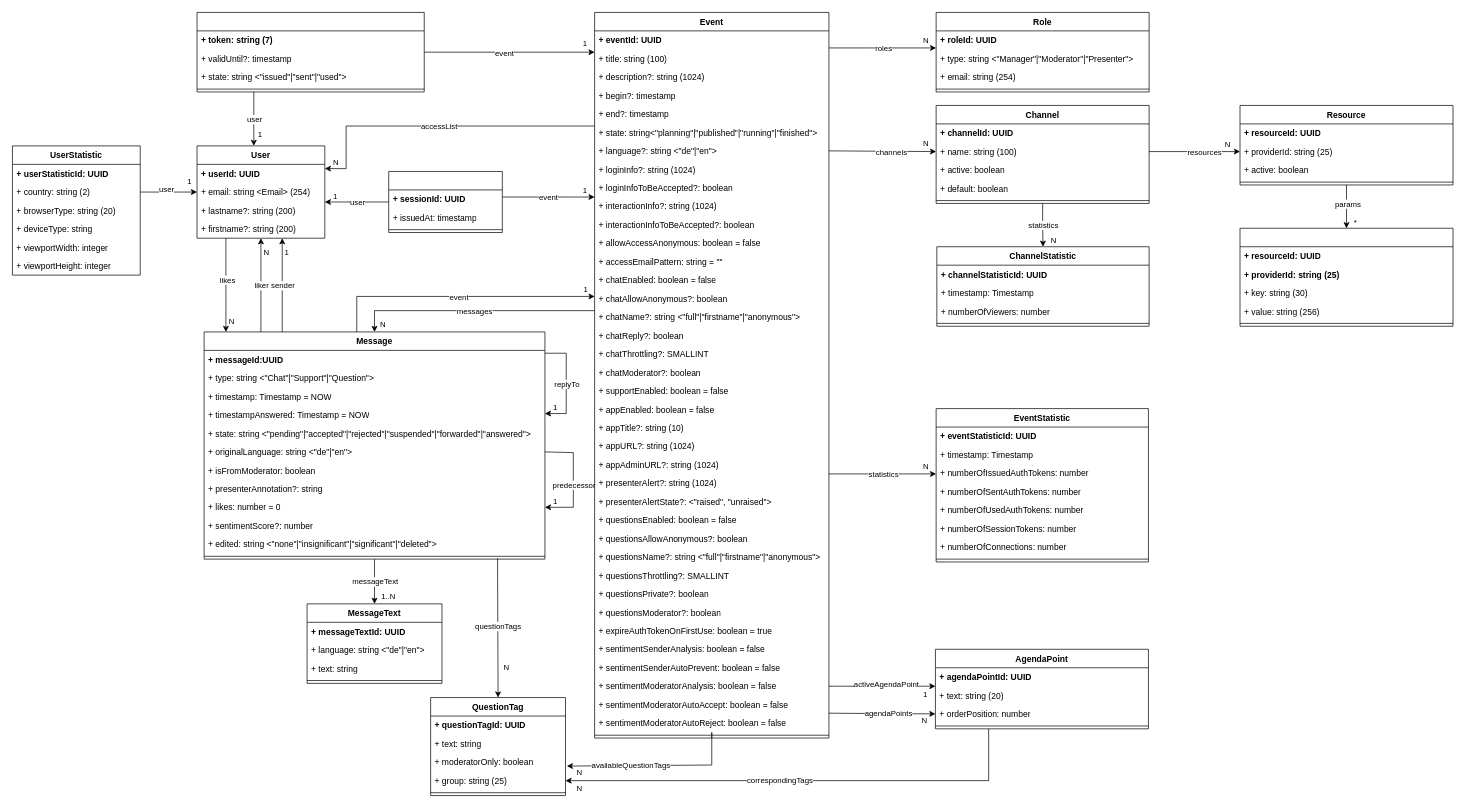
This 1465x808 diagram has some shape labels left out. Here are the shapes that lost their labels. From the top down, the box of each, then its label:
(196, 12, 424, 92): AuthorizationToken
(388, 171, 502, 233): SessionToken
(1239, 228, 1453, 326): ResourceProviderParam
